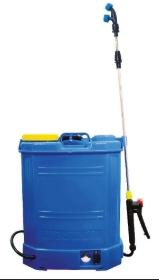PULVERISATEUR: (0, 0, 155, 280)
